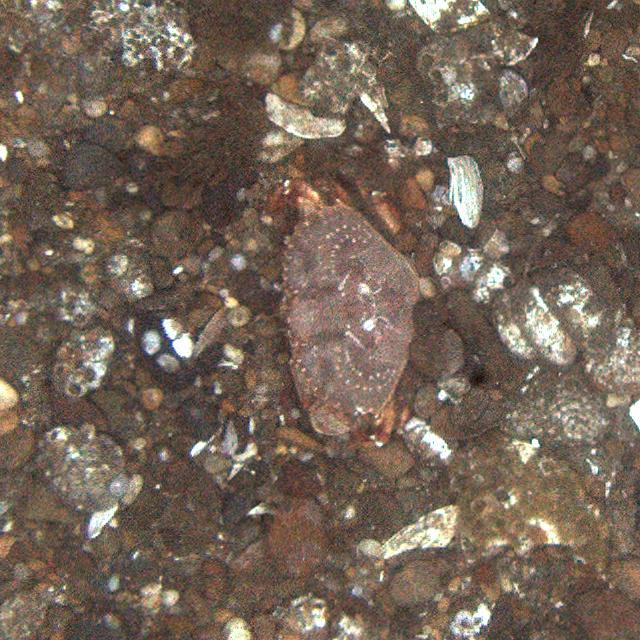crab: (269, 197, 425, 449)
